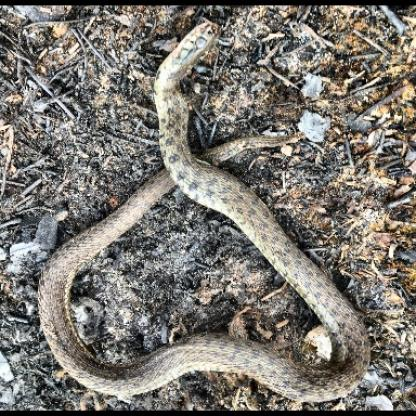Snake: (38, 24, 373, 402)
